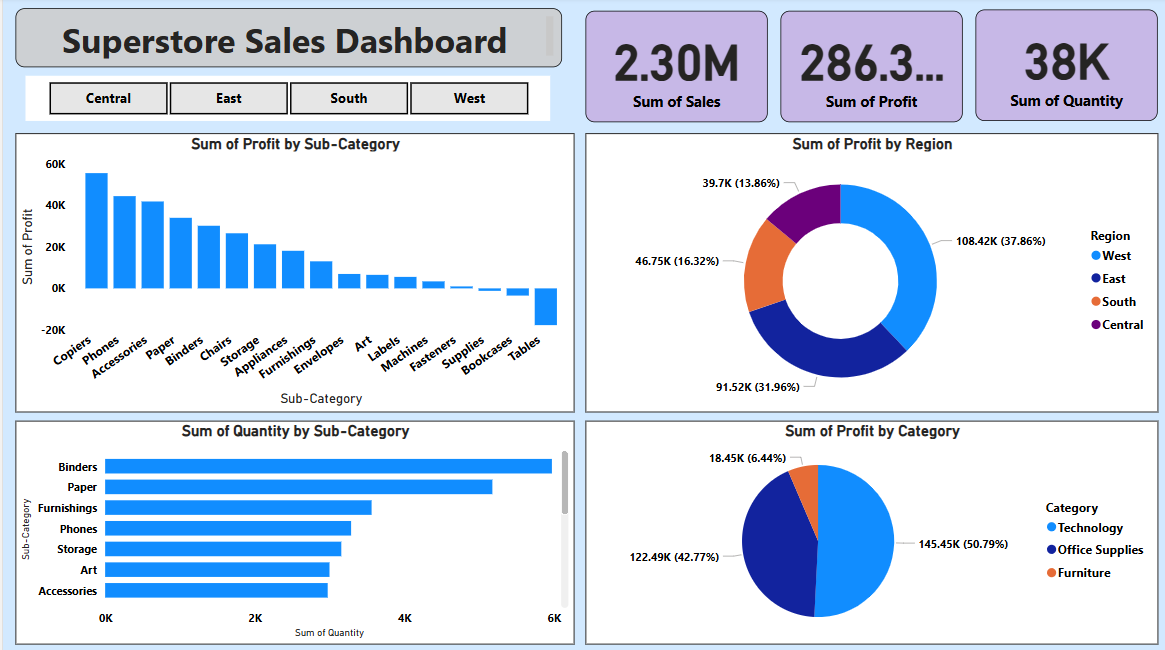

What the dashboard file says about the page in this screenshot:
{"tool":"powerbi","page":{"name":"Page 1","canvas":[1280,720],"ordinal":0},"visuals":[{"type":"card","fields":{"Values":["Sum(SampleSuperstore.Sales)"]},"box":[639.5,15.1,200.3,122.1],"z":0},{"type":"card","fields":{"Values":["Sum(SampleSuperstore.Profit)"]},"box":[853.5,15.1,200.3,122.1],"z":1000},{"type":"card","fields":{"Values":["Sum(SampleSuperstore.Quantity)"]},"box":[1067.6,13.7,200.3,122.1],"z":2000},{"type":"columnChart","fields":{"Category":["SampleSuperstore.Sub-Category"],"Y":["Sum(SampleSuperstore.Profit)"]},"box":[13.7,149.6,613.4,296.4],"z":3000},{"type":"donutChart","fields":{"Y":["Sum(SampleSuperstore.Profit)"],"Category":["SampleSuperstore.Region"]},"box":[639.5,149.6,628.5,296.4],"z":4000},{"type":"barChart","fields":{"Category":["SampleSuperstore.Sub-Category"],"Y":["Sum(SampleSuperstore.Quantity)"]},"box":[13.7,465.2,613.4,245.6],"z":5000},{"type":"pieChart","fields":{"Y":["Sum(SampleSuperstore.Profit)"],"Category":["SampleSuperstore.Category"]},"box":[639.5,465.2,628.5,245.6],"z":6000},{"type":"textbox","box":[13.7,12.3,599.7,64.5],"z":7000},{"type":"slicer","fields":{"Values":["SampleSuperstore.Region"]},"box":[24.7,86.4,576.3,49.4],"z":8000}]}

Visuals, with their boxes in screenshot pixels (x1, y1, x2, y2), scaled from the page's 1280x720 canvas onto the 1165x650 screenshot:
card - Sum(SampleSuperstore.Sales): box(582, 14, 764, 124)
card - Sum(SampleSuperstore.Profit): box(777, 14, 959, 124)
card - Sum(SampleSuperstore.Quantity): box(972, 12, 1154, 123)
columnChart - SampleSuperstore.Sub-Category x Sum(SampleSuperstore.Profit): box(12, 135, 571, 403)
donutChart - Sum(SampleSuperstore.Profit) x SampleSuperstore.Region: box(582, 135, 1154, 403)
barChart - SampleSuperstore.Sub-Category x Sum(SampleSuperstore.Quantity): box(12, 420, 571, 642)
pieChart - Sum(SampleSuperstore.Profit) x SampleSuperstore.Category: box(582, 420, 1154, 642)
textbox: box(12, 11, 558, 69)
slicer - SampleSuperstore.Region: box(22, 78, 547, 123)
